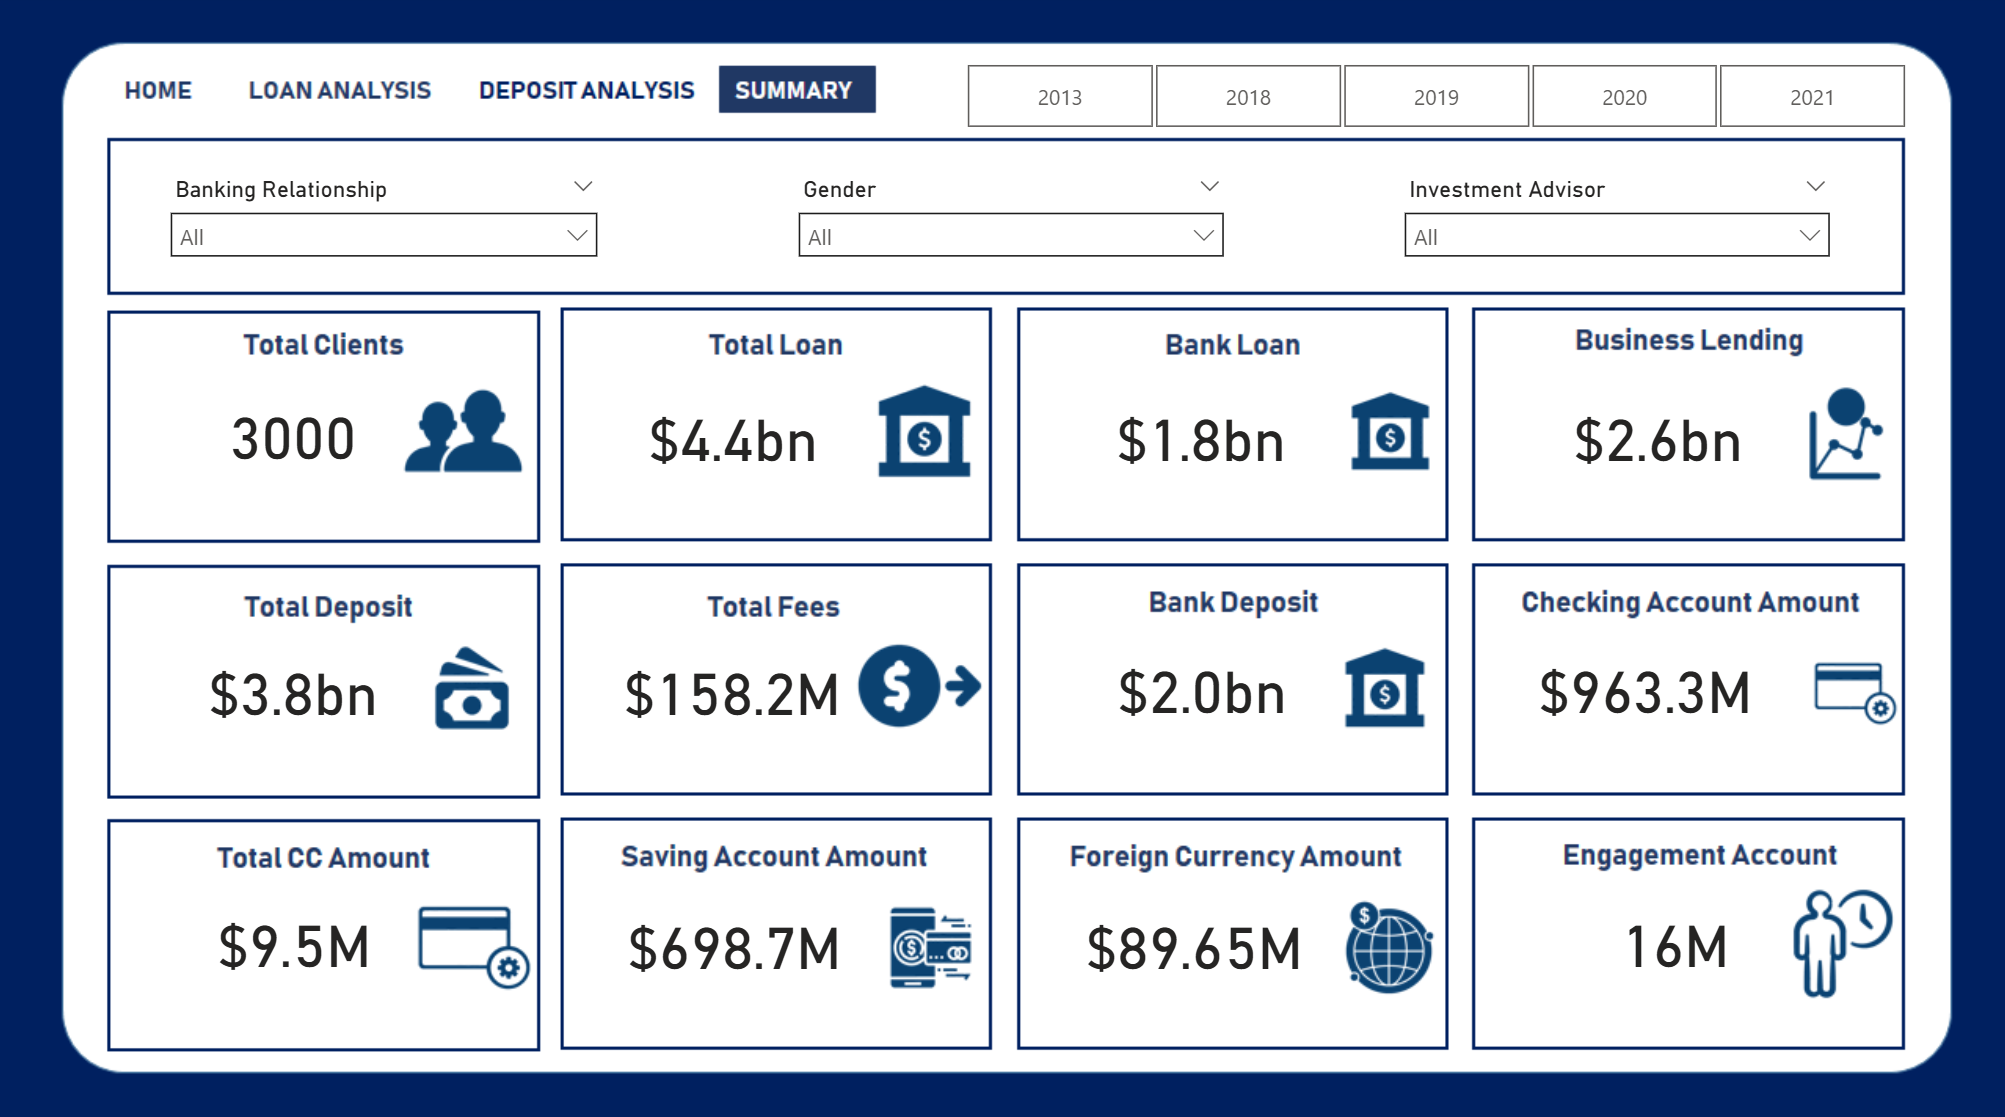

Layout of this report page (visuals, bound fields, positions):
{"tool":"powerbi","page":{"name":"Summary","canvas":[1280,720],"ordinal":3},"visuals":[{"type":"card","fields":{"Values":["CountNonNull(report.client_id)"]},"box":[121.1,246.1,132.6,70.1],"z":0},{"type":"card","fields":{"Values":["report.loan"]},"box":[383.7,247.3,168.3,70.1],"z":1000},{"type":"card","fields":{"Values":["Sum(report.bank_loans)"]},"box":[687.2,247.3,158.1,70.1],"z":2000},{"type":"card","fields":{"Values":["Sum(report.business_lending)"]},"box":[980.4,247.3,154.3,70.1],"z":3000},{"type":"card","fields":{"Values":["report.deposite"]},"box":[109.6,409.2,155.5,70.1],"z":4000},{"type":"card","fields":{"Values":["report.fees"]},"box":[382.5,409.2,169.6,70.1],"z":5000},{"type":"card","fields":{"Values":["Sum(report.bank_deposits)"]},"box":[687.2,408,159.4,70.1],"z":6000},{"type":"card","fields":{"Values":["Sum(report.checking_accounts)"]},"box":[947.3,408,204,70.1],"z":7000},{"type":"card","fields":{"Values":["Sum(report.credit_card_balance)"]},"box":[109.6,569.9,156.8,70.1],"z":8000},{"type":"card","fields":{"Values":["Sum(report.saving_accounts)"]},"box":[392.7,571.2,151.7,70.1],"z":9000},{"type":"card","fields":{"Values":["Sum(report.foreign_currency_account)"]},"box":[677,571.2,169.6,70.1],"z":10000},{"type":"card","fields":{"Values":["Sum(report.engagement_days)"]},"box":[1002.1,569.9,132.6,70.1],"z":11000},{"type":"slicer","fields":{"Values":["report.banking_relationship"]},"box":[99.4,112.2,292,66.3],"z":12000},{"type":"slicer","fields":{"Values":["report.gender"]},"box":[499.8,112.2,291,66.3],"z":13000},{"type":"slicer","fields":{"Values":["report.investment_advisor"]},"box":[886.1,112.2,291,66.3],"z":14000},{"type":"slicer","fields":{"Values":["report.year_of_joining"]},"box":[591.6,39.5,647.6,53.5],"z":15000},{"type":"actionButton","box":[72.7,39.5,57.4,39.5],"z":15001},{"type":"actionButton","box":[149.2,40.8,133.9,39.5],"z":15002},{"type":"actionButton","box":[297.1,42.1,154.3,39.5],"z":15003}]}

Visuals, with their boxes in screenshot pixels (x1, y1, x2, y2), scaled from the page's 1280x720 canvas onto the 2005x1117 screenshot:
card - CountNonNull(report.client_id): [left=190, top=382, right=397, bottom=491]
card - report.loan: [left=601, top=384, right=865, bottom=492]
card - Sum(report.bank_loans): [left=1076, top=384, right=1324, bottom=492]
card - Sum(report.business_lending): [left=1536, top=384, right=1777, bottom=492]
card - report.deposite: [left=172, top=635, right=415, bottom=744]
card - report.fees: [left=599, top=635, right=865, bottom=744]
card - Sum(report.bank_deposits): [left=1076, top=633, right=1326, bottom=742]
card - Sum(report.checking_accounts): [left=1484, top=633, right=1803, bottom=742]
card - Sum(report.credit_card_balance): [left=172, top=884, right=417, bottom=993]
card - Sum(report.saving_accounts): [left=615, top=886, right=853, bottom=995]
card - Sum(report.foreign_currency_account): [left=1060, top=886, right=1326, bottom=995]
card - Sum(report.engagement_days): [left=1570, top=884, right=1777, bottom=993]
slicer - report.banking_relationship: [left=156, top=174, right=613, bottom=277]
slicer - report.gender: [left=783, top=174, right=1239, bottom=277]
slicer - report.investment_advisor: [left=1388, top=174, right=1844, bottom=277]
slicer - report.year_of_joining: [left=927, top=61, right=1941, bottom=144]
actionButton: [left=114, top=61, right=204, bottom=123]
actionButton: [left=234, top=63, right=443, bottom=125]
actionButton: [left=465, top=65, right=707, bottom=127]
